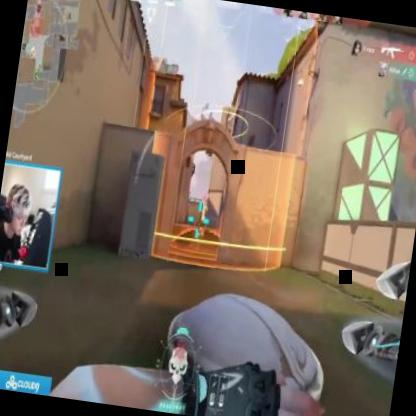enemy: (195, 206, 204, 228)
enemy_head: (200, 206, 202, 210)
